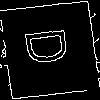D: (24, 24, 79, 67)
